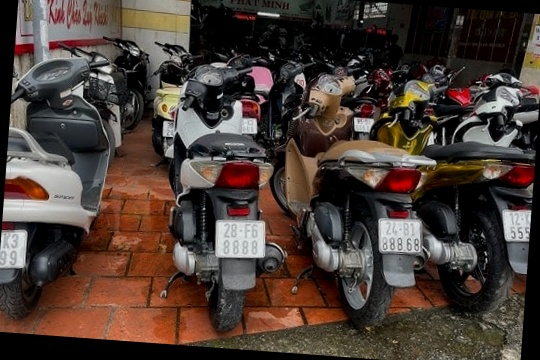Bien-so: (213, 218, 267, 261), (376, 217, 426, 255), (0, 231, 28, 271), (500, 209, 530, 245), (353, 117, 375, 133), (240, 117, 259, 135), (161, 120, 175, 139)
